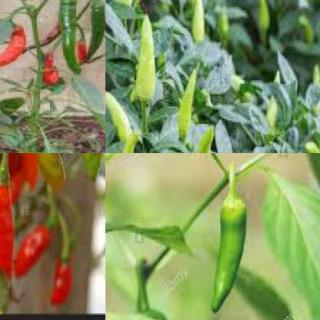green_chilli: (209, 192, 256, 310), (53, 0, 85, 77), (134, 12, 158, 101), (173, 68, 200, 144), (80, 0, 104, 62), (105, 90, 131, 142), (78, 153, 104, 184), (191, 0, 205, 44), (119, 131, 145, 152)
